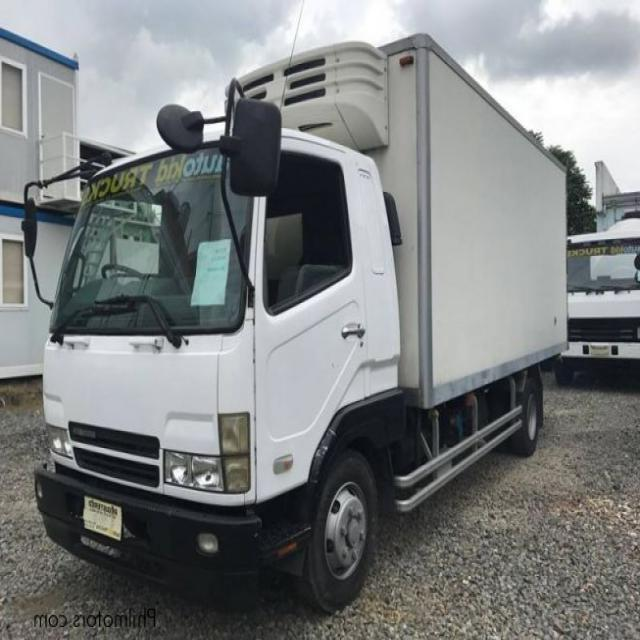truck: (22, 31, 568, 605)
